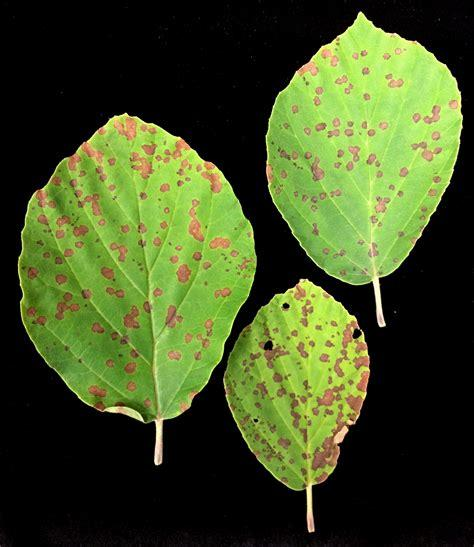black-spot: (301, 94, 430, 215), (42, 202, 136, 352)
